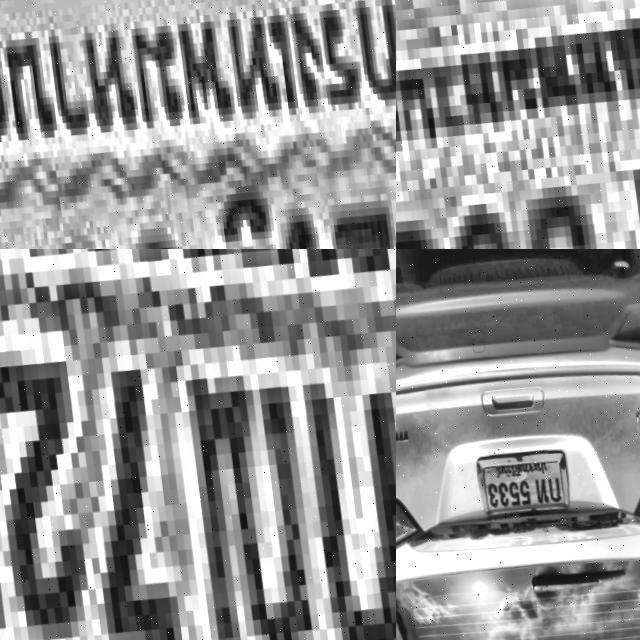license-plate: (0, 249, 396, 640), (0, 0, 396, 249), (396, 0, 640, 249), (473, 442, 571, 519)
